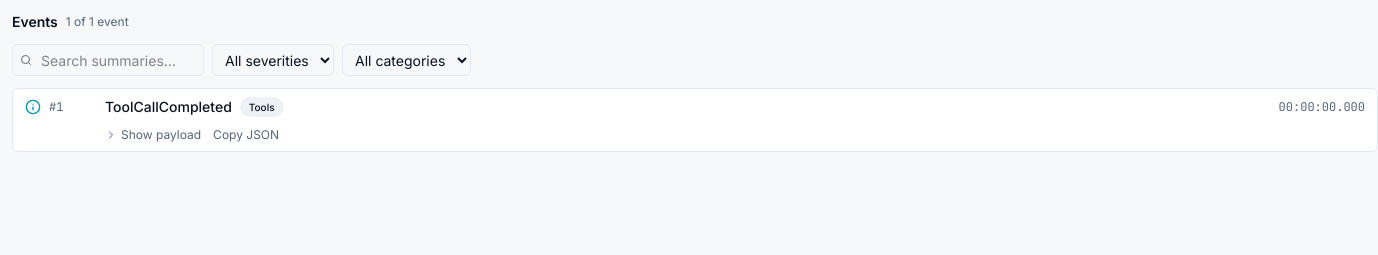
EventTimeline › hides raw payload behind a disclosure toggle
This screenshot has width=1378, height=255.
Step 1. Click the button "Show payload" → (153, 135), box [105,127,201,143]
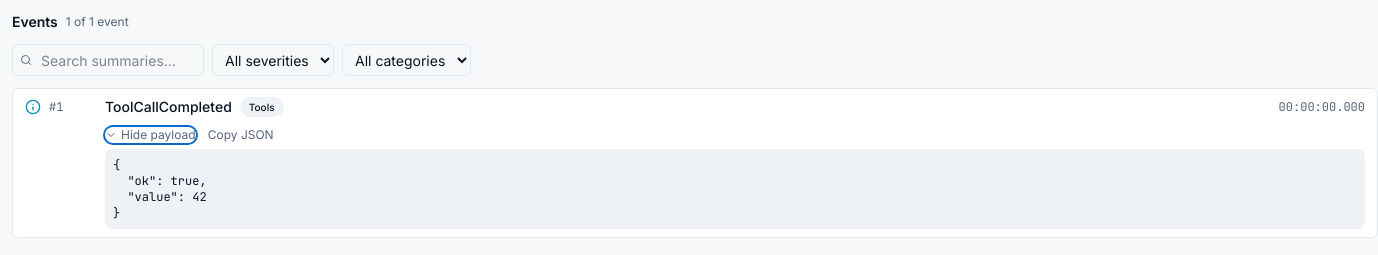
Expected: the text "{ \"ok\": true, \"value\": 42 }" is shown, [105,149,1365,229]
Expected: the text with test id "event-payload" shows "\"value\": 42", [113,157,207,221]
